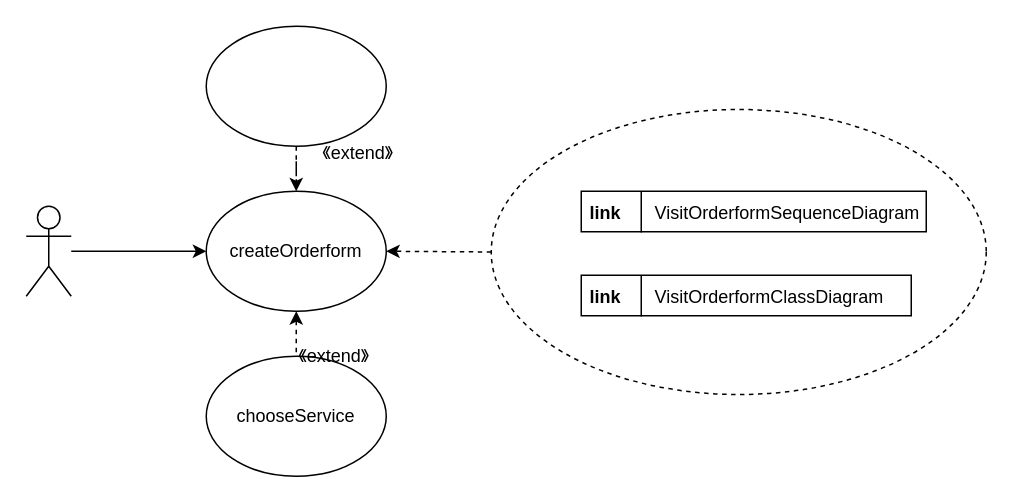
The diagram is 1013 pixels wide and 503 high, and some of its shapes have lost their labels. Here are the shapes that lost their labels. From the top down, the centre of each, then its label:
At [295,85]: "cancelOrderform".
At [48,250]: "User".
